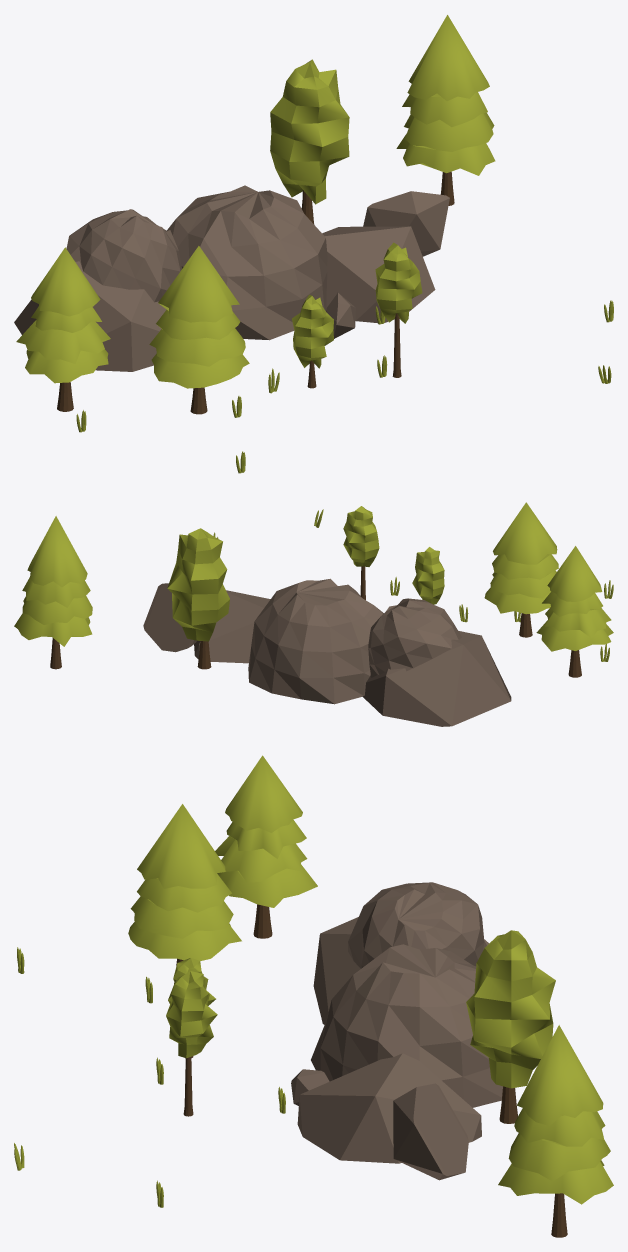
Rendered from Trees Rocks.glb.
3 views of the same model, one above another, from view 1: azimuth 30°, elevation 25°; view 2: azimuth 150°, elevation 25°; view 3: azimuth 270°, elevation 25° (orthographic). The views are drawn at different scales.
Parts seen in each view (by area): view 1: pSphere1, pCone14, pCone13, pCone21, pCone15, pSphere2, pSolid3, pSolid1, pSolid2, pCone23, pCone22, pSolid4; view 2: pSphere1, pSolid1, pCone14, pCone13, pCone21, pCone15, pSphere2, pSolid3, pSolid2, pCone23, pCone22; view 3: pSphere1, pCone14, pCone13, pCone21, pSolid3, pCone15, pSphere2, pSolid2, pCone23, pSolid1, pSolid4.
Part boxes in pixels (box(x1,y1,x2,y2)): pSphere1: box(167, 185, 327, 340); pCone14: box(396, 15, 495, 205); pCone13: box(149, 246, 249, 414); pCone21: box(270, 59, 349, 224); pCone15: box(16, 247, 110, 411); pSphere2: box(66, 209, 181, 302); pSolid3: box(322, 226, 435, 323); pSolid1: box(14, 261, 166, 371); pSolid2: box(363, 191, 449, 256); pCone23: box(375, 242, 422, 377); pCone22: box(292, 294, 333, 388); pSolid4: box(326, 292, 355, 338); pSphere1: box(248, 578, 383, 704); pSolid1: box(362, 631, 511, 726); pCone14: box(14, 516, 92, 669); pCone13: box(484, 502, 558, 637); pCone21: box(167, 528, 229, 669); pCone15: box(536, 546, 613, 677); pSphere2: box(368, 598, 461, 677); pSolid3: box(194, 590, 270, 663); pSolid2: box(143, 583, 196, 652); pCone23: box(343, 506, 379, 599); pCone22: box(412, 547, 444, 604); pSphere1: box(311, 944, 502, 1107); pCone14: box(498, 1025, 613, 1237); pCone13: box(128, 804, 241, 983); pCone21: box(466, 930, 555, 1123); pSolid3: box(297, 1053, 481, 1163); pCone15: box(215, 755, 317, 938); pSphere2: box(348, 882, 486, 968); pSolid2: box(393, 1083, 468, 1180); pCone23: box(166, 971, 217, 1116); pSolid1: box(313, 917, 488, 1024); pSolid4: box(291, 1069, 329, 1105).
Bounding box in the file's own units: 85.18 × 26.6 × 66.39.
